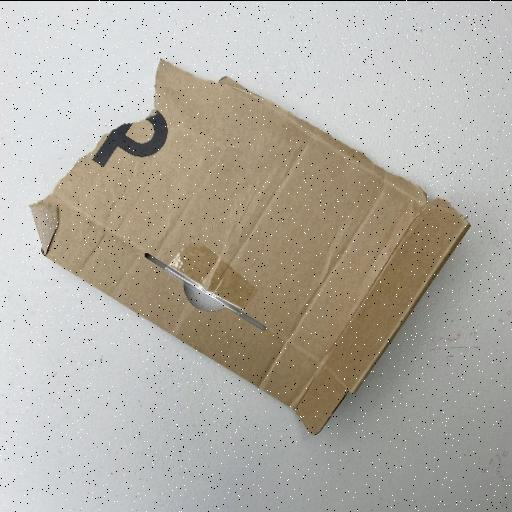Cardboard: (27, 56, 471, 436)
